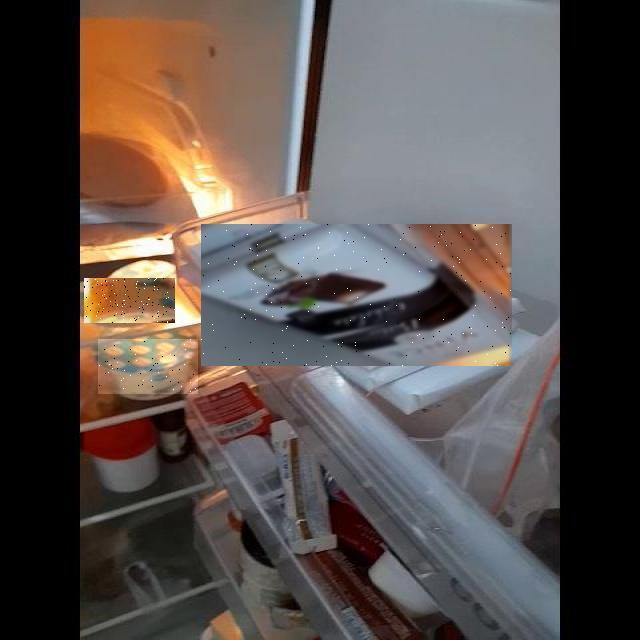Chocolate: (202, 224, 514, 366)
Yoghurt: (99, 339, 199, 394), (84, 278, 175, 323)
